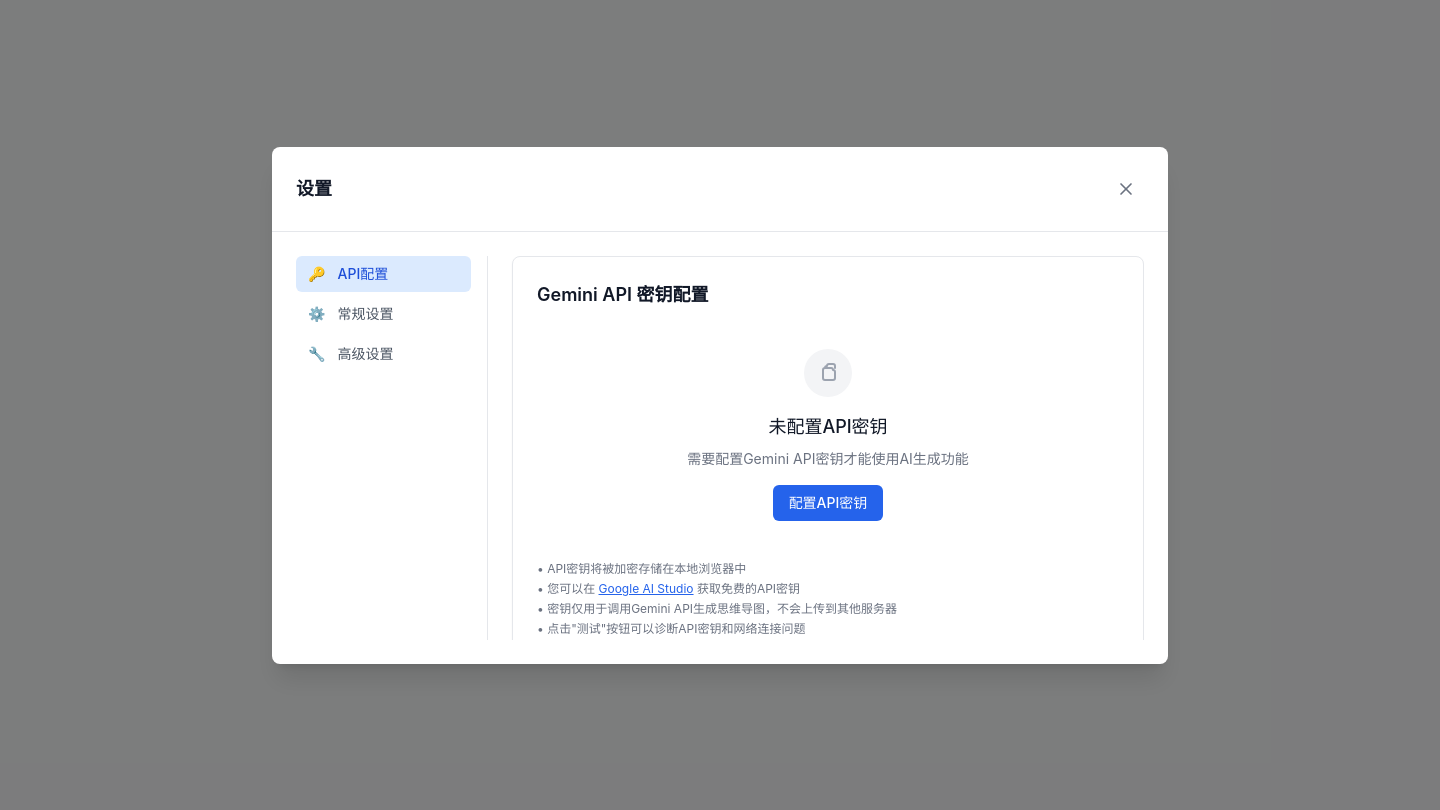
Test: 设置组件测试 › SettingsPanel 组件 › 应该能够切换标签页
Click the button "⚙️ 常规设置" at (384, 314), box [296,296,471,332]
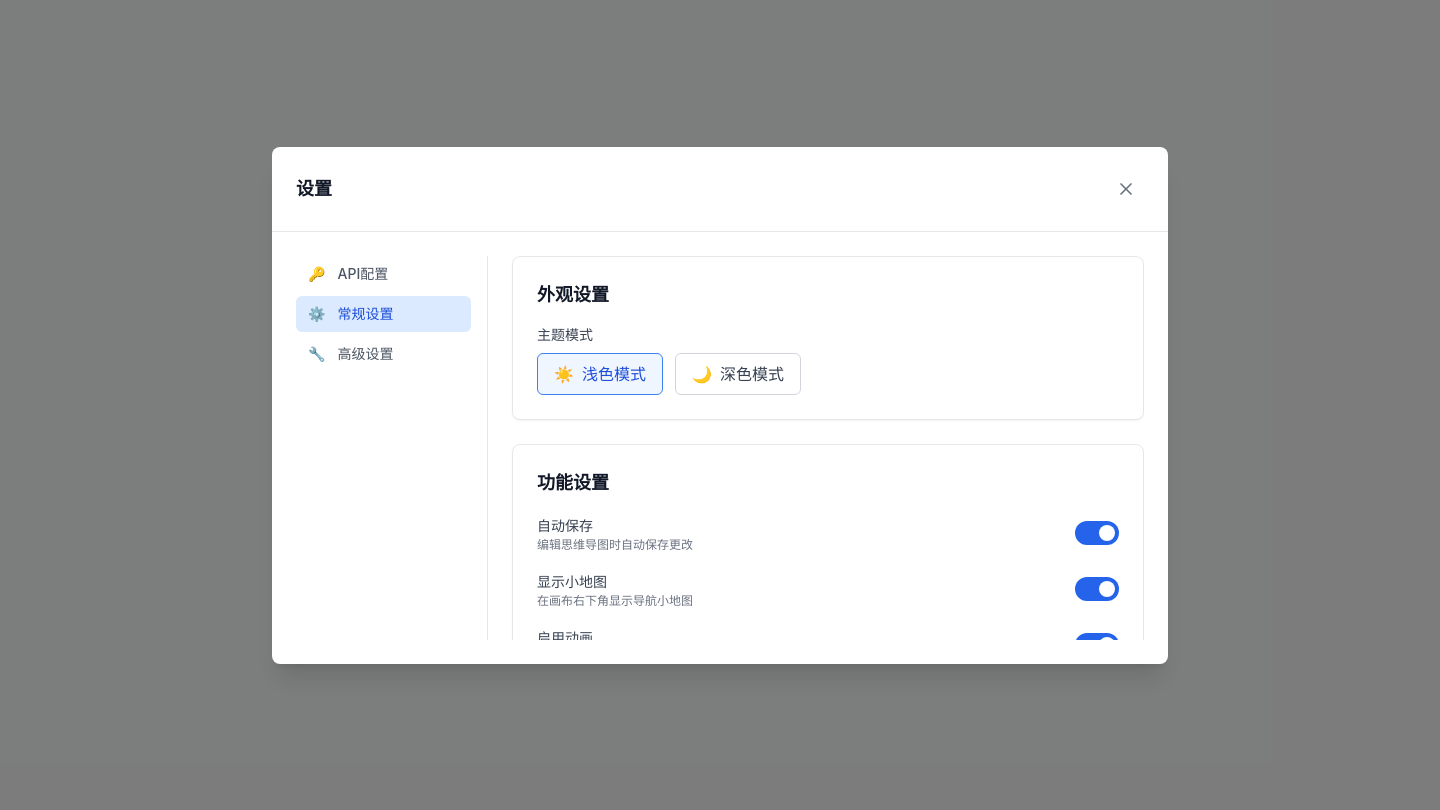
Result: the heading "外观设置" is shown at [537,284,609,304]
Result: the text "主题模式" is shown at [537,326,593,342]
